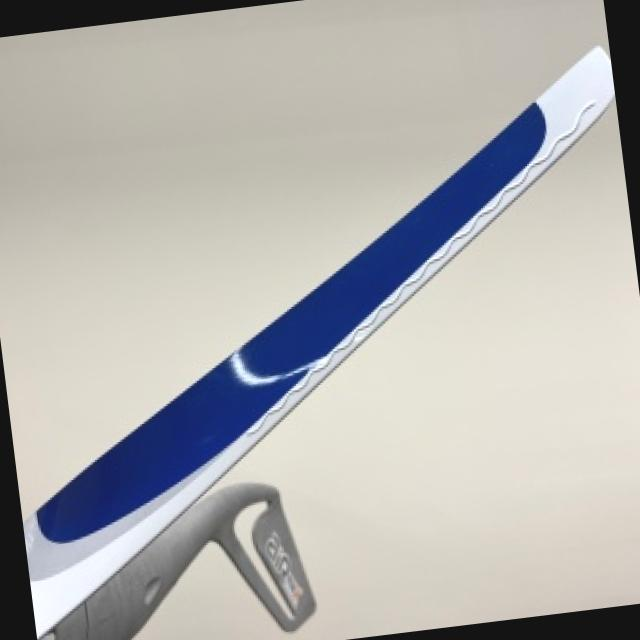healthy: (22, 46, 613, 640)
